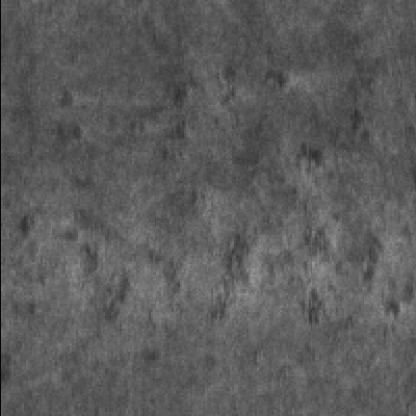rolled-in_scale: (220, 60, 387, 310), (62, 72, 204, 314)
